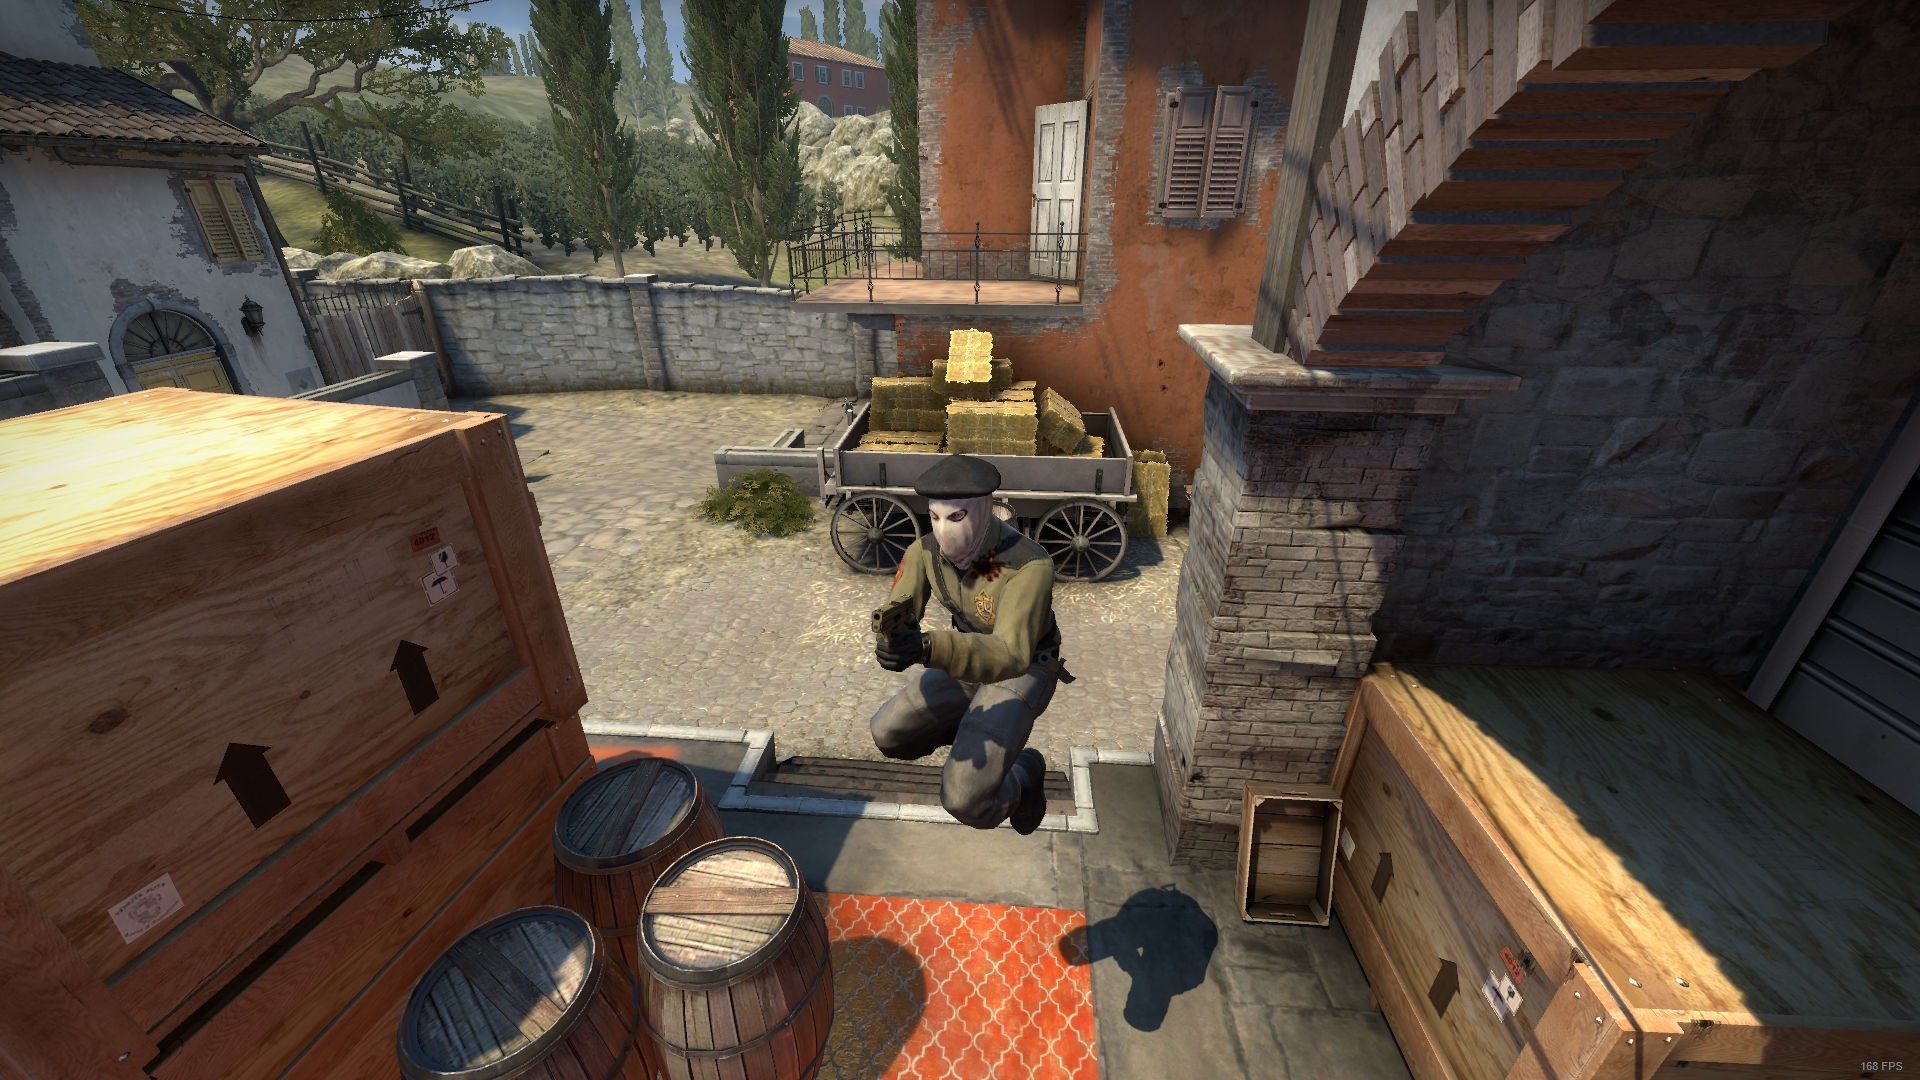t: (866, 454, 1063, 836)
